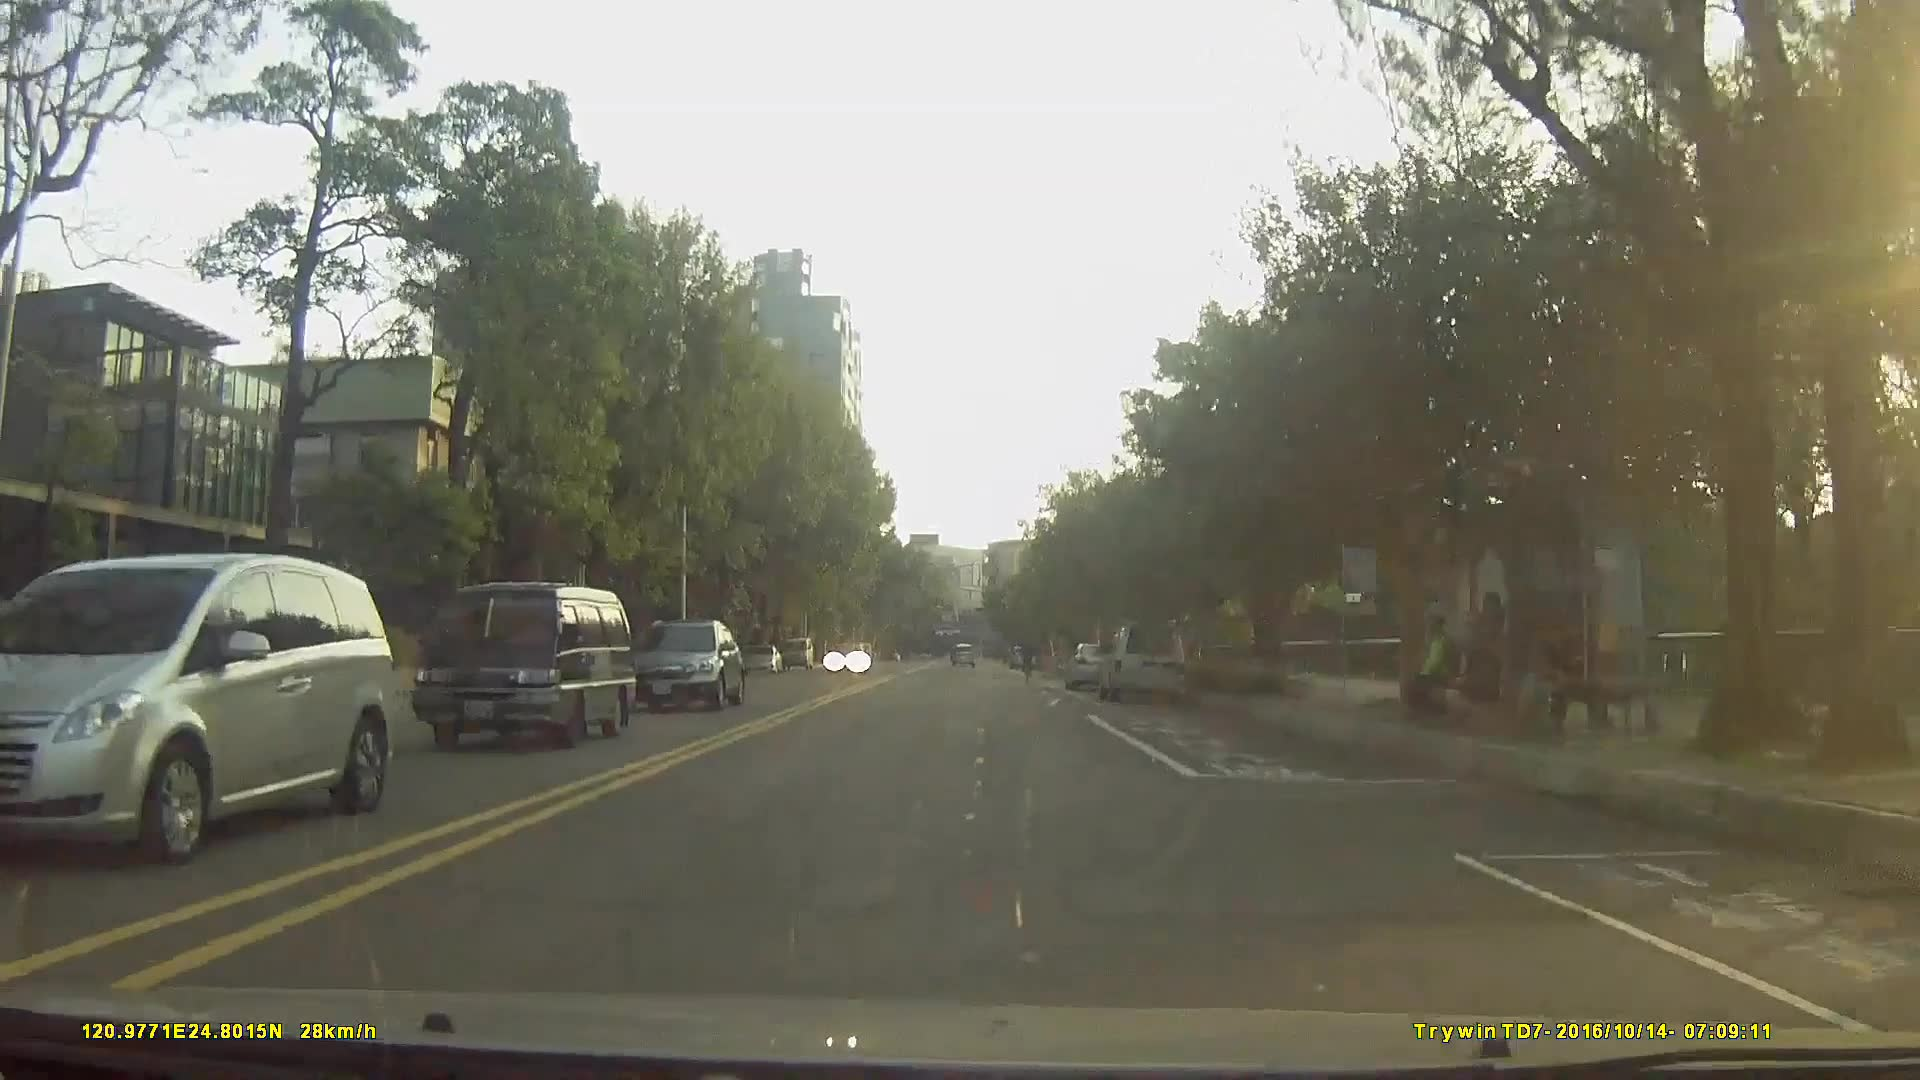pedestrian: (1441, 589, 1514, 734), (1508, 620, 1573, 741), (1408, 612, 1465, 723)
rider: (1018, 632, 1038, 688)
vehicle: (0, 551, 394, 867), (411, 579, 634, 754), (621, 617, 744, 711), (1099, 616, 1186, 702), (1064, 637, 1121, 688), (826, 639, 873, 673), (741, 642, 781, 675), (780, 632, 814, 668), (949, 639, 974, 664)
